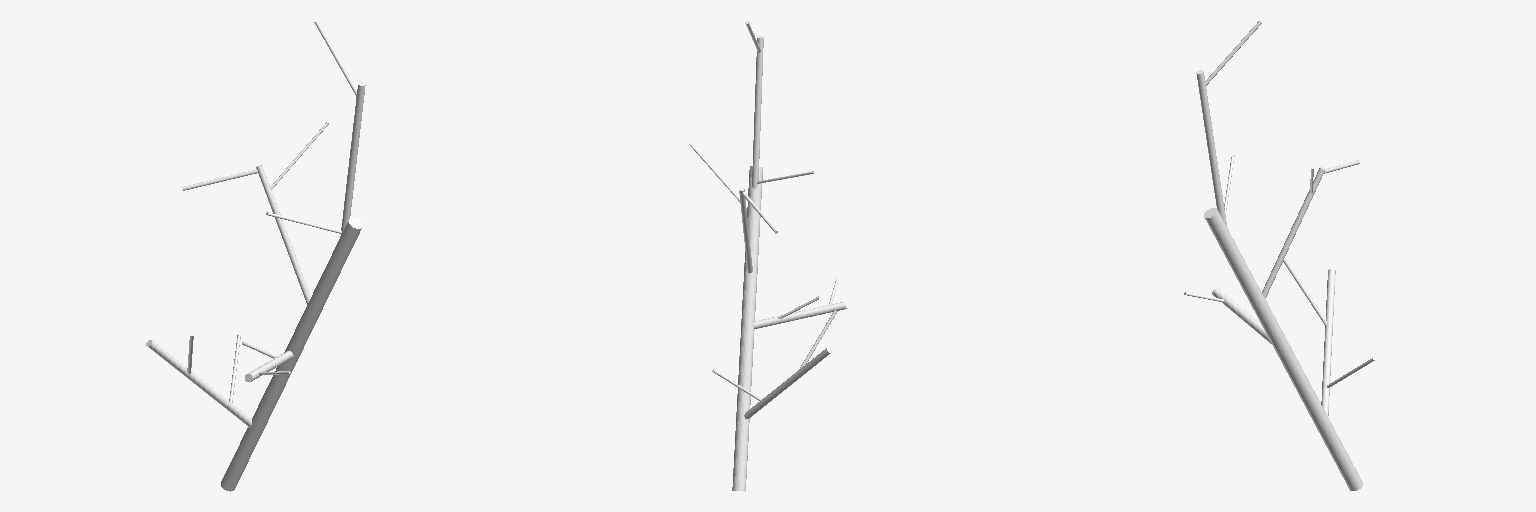
URDF robot description (tree_73.urdf):
<?xml version='1.0' encoding='UTF-8'?>
<robot name="tree_73.urdf">
  <link name="branch_0">
    <inertial>
      <origin xyz="0.0 0.0 0.0" rpy="0.0 -0.0 0.0"/>
      <mass value="1.0"/>
      <inertia ixx="1.0" ixy="0.0" ixz="0.0" iyy="1.0" iyz="0.0" izz="1.0"/>
    </inertial>
    <visual name="branch_0_visual">
      <geometry>
        <cylinder radius="0.20638928334757026" length="9.8569751518253"/>
      </geometry>
      <material name="branch_material"/>
      <origin xyz="0.8276290843068931 -1.9606261352390435 4.445330701146124" rpy="2.7755575615628914e-17 0.4464941199530798 -1.1713634447940307"/>
    </visual>
    <collision name="branch_0_collision">
      <geometry>
        <cylinder radius="0.20638928334757026" length="9.8569751518253"/>
      </geometry>
      <origin xyz="0.8276290843068931 -1.9606261352390435 4.445330701146124" rpy="2.7755575615628914e-17 0.4464941199530798 -1.1713634447940307"/>
    </collision>
  </link>
  <link name="branch_1">
    <inertial>
      <origin xyz="0.0 0.0 0.0" rpy="0.0 -0.0 0.0"/>
      <mass value="1.0"/>
      <inertia ixx="1.0" ixy="0.0" ixz="0.0" iyy="1.0" iyz="0.0" izz="1.0"/>
    </inertial>
    <visual name="branch_1_visual">
      <geometry>
        <cylinder radius="0.08349762583085146" length="4.148291246281149"/>
      </geometry>
      <material name="branch_material"/>
      <origin xyz="0.0 0.0 0.0" rpy="0.0 -0.0 0.0"/>
    </visual>
    <collision name="branch_1_collision">
      <geometry>
        <cylinder radius="0.08349762583085146" length="4.148291246281149"/>
      </geometry>
      <origin xyz="0.0 0.0 0.0" rpy="0.0 -0.0 0.0"/>
    </collision>
  </link>
  <link name="branch_2">
    <inertial>
      <origin xyz="0.0 0.0 0.0" rpy="0.0 -0.0 0.0"/>
      <mass value="1.0"/>
      <inertia ixx="1.0" ixy="0.0" ixz="0.0" iyy="1.0" iyz="0.0" izz="1.0"/>
    </inertial>
    <visual name="branch_2_visual">
      <geometry>
        <cylinder radius="0.05392378732140985" length="2.134622341768603"/>
      </geometry>
      <material name="branch_material"/>
      <origin xyz="0.0 0.0 0.0" rpy="0.0 -0.0 0.0"/>
    </visual>
    <collision name="branch_2_collision">
      <geometry>
        <cylinder radius="0.05392378732140985" length="2.134622341768603"/>
      </geometry>
      <origin xyz="0.0 0.0 0.0" rpy="0.0 -0.0 0.0"/>
    </collision>
  </link>
  <link name="branch_3">
    <inertial>
      <origin xyz="0.0 0.0 0.0" rpy="0.0 -0.0 0.0"/>
      <mass value="1.0"/>
      <inertia ixx="1.0" ixy="0.0" ixz="0.0" iyy="1.0" iyz="0.0" izz="1.0"/>
    </inertial>
    <visual name="branch_3_visual">
      <geometry>
        <cylinder radius="0.04" length="2.434232954632553"/>
      </geometry>
      <material name="branch_material"/>
      <origin xyz="0.0 0.0 0.0" rpy="0.0 -0.0 0.0"/>
    </visual>
    <collision name="branch_3_collision">
      <geometry>
        <cylinder radius="0.04" length="2.434232954632553"/>
      </geometry>
      <origin xyz="0.0 0.0 0.0" rpy="0.0 -0.0 0.0"/>
    </collision>
  </link>
  <link name="branch_4">
    <inertial>
      <origin xyz="0.0 0.0 0.0" rpy="0.0 -0.0 0.0"/>
      <mass value="1.0"/>
      <inertia ixx="1.0" ixy="0.0" ixz="0.0" iyy="1.0" iyz="0.0" izz="1.0"/>
    </inertial>
    <visual name="branch_4_visual">
      <geometry>
        <cylinder radius="0.10439015432734483" length="4.457659811534806"/>
      </geometry>
      <material name="branch_material"/>
      <origin xyz="0.0 0.0 0.0" rpy="0.0 -0.0 0.0"/>
    </visual>
    <collision name="branch_4_collision">
      <geometry>
        <cylinder radius="0.10439015432734483" length="4.457659811534806"/>
      </geometry>
      <origin xyz="0.0 0.0 0.0" rpy="0.0 -0.0 0.0"/>
    </collision>
  </link>
  <link name="branch_5">
    <inertial>
      <origin xyz="0.0 0.0 0.0" rpy="0.0 -0.0 0.0"/>
      <mass value="1.0"/>
      <inertia ixx="1.0" ixy="0.0" ixz="0.0" iyy="1.0" iyz="0.0" izz="1.0"/>
    </inertial>
    <visual name="branch_5_visual">
      <geometry>
        <cylinder radius="0.04524205811665843" length="2.1319603378595335"/>
      </geometry>
      <material name="branch_material"/>
      <origin xyz="0.0 0.0 0.0" rpy="0.0 -0.0 0.0"/>
    </visual>
    <collision name="branch_5_collision">
      <geometry>
        <cylinder radius="0.04524205811665843" length="2.1319603378595335"/>
      </geometry>
      <origin xyz="0.0 0.0 0.0" rpy="0.0 -0.0 0.0"/>
    </collision>
  </link>
  <link name="branch_6">
    <inertial>
      <origin xyz="0.0 0.0 0.0" rpy="0.0 -0.0 0.0"/>
      <mass value="1.0"/>
      <inertia ixx="1.0" ixy="0.0" ixz="0.0" iyy="1.0" iyz="0.0" izz="1.0"/>
    </inertial>
    <visual name="branch_6_visual">
      <geometry>
        <cylinder radius="0.05349065599832659" length="2.2947537209078437"/>
      </geometry>
      <material name="branch_material"/>
      <origin xyz="0.0 0.0 0.0" rpy="0.0 -0.0 0.0"/>
    </visual>
    <collision name="branch_6_collision">
      <geometry>
        <cylinder radius="0.05349065599832659" length="2.2947537209078437"/>
      </geometry>
      <origin xyz="0.0 0.0 0.0" rpy="0.0 -0.0 0.0"/>
    </collision>
  </link>
  <link name="branch_7">
    <inertial>
      <origin xyz="0.0 0.0 0.0" rpy="0.0 -0.0 0.0"/>
      <mass value="1.0"/>
      <inertia ixx="1.0" ixy="0.0" ixz="0.0" iyy="1.0" iyz="0.0" izz="1.0"/>
    </inertial>
    <visual name="branch_7_visual">
      <geometry>
        <cylinder radius="0.10154860166900283" length="5.153411219163993"/>
      </geometry>
      <material name="branch_material"/>
      <origin xyz="0.0 0.0 0.0" rpy="0.0 -0.0 0.0"/>
    </visual>
    <collision name="branch_7_collision">
      <geometry>
        <cylinder radius="0.10154860166900283" length="5.153411219163993"/>
      </geometry>
      <origin xyz="0.0 0.0 0.0" rpy="0.0 -0.0 0.0"/>
    </collision>
  </link>
  <link name="branch_8">
    <inertial>
      <origin xyz="0.0 0.0 0.0" rpy="0.0 -0.0 0.0"/>
      <mass value="1.0"/>
      <inertia ixx="1.0" ixy="0.0" ixz="0.0" iyy="1.0" iyz="0.0" izz="1.0"/>
    </inertial>
    <visual name="branch_8_visual">
      <geometry>
        <cylinder radius="0.04" length="2.4436872086242696"/>
      </geometry>
      <material name="branch_material"/>
      <origin xyz="0.0 0.0 0.0" rpy="0.0 -0.0 0.0"/>
    </visual>
    <collision name="branch_8_collision">
      <geometry>
        <cylinder radius="0.04" length="2.4436872086242696"/>
      </geometry>
      <origin xyz="0.0 0.0 0.0" rpy="0.0 -0.0 0.0"/>
    </collision>
  </link>
  <link name="branch_9">
    <inertial>
      <origin xyz="0.0 0.0 0.0" rpy="0.0 -0.0 0.0"/>
      <mass value="1.0"/>
      <inertia ixx="1.0" ixy="0.0" ixz="0.0" iyy="1.0" iyz="0.0" izz="1.0"/>
    </inertial>
    <visual name="branch_9_visual">
      <geometry>
        <cylinder radius="0.054449592986056235" length="2.3863082700504736"/>
      </geometry>
      <material name="branch_material"/>
      <origin xyz="0.0 0.0 0.0" rpy="0.0 -0.0 0.0"/>
    </visual>
    <collision name="branch_9_collision">
      <geometry>
        <cylinder radius="0.054449592986056235" length="2.3863082700504736"/>
      </geometry>
      <origin xyz="0.0 0.0 0.0" rpy="0.0 -0.0 0.0"/>
    </collision>
  </link>
  <link name="branch_10">
    <inertial>
      <origin xyz="0.0 0.0 0.0" rpy="0.0 -0.0 0.0"/>
      <mass value="1.0"/>
      <inertia ixx="1.0" ixy="0.0" ixz="0.0" iyy="1.0" iyz="0.0" izz="1.0"/>
    </inertial>
    <visual name="branch_10_visual">
      <geometry>
        <cylinder radius="0.11779387292275377" length="3.0418121723031324"/>
      </geometry>
      <material name="branch_material"/>
      <origin xyz="0.0 0.0 0.0" rpy="0.0 -0.0 0.0"/>
    </visual>
    <collision name="branch_10_collision">
      <geometry>
        <cylinder radius="0.11779387292275377" length="3.0418121723031324"/>
      </geometry>
      <origin xyz="0.0 0.0 0.0" rpy="0.0 -0.0 0.0"/>
    </collision>
  </link>
  <link name="branch_11">
    <inertial>
      <origin xyz="0.0 0.0 0.0" rpy="0.0 -0.0 0.0"/>
      <mass value="1.0"/>
      <inertia ixx="1.0" ixy="0.0" ixz="0.0" iyy="1.0" iyz="0.0" izz="1.0"/>
    </inertial>
    <visual name="branch_11_visual">
      <geometry>
        <cylinder radius="0.04248680530091624" length="1.7018905605302013"/>
      </geometry>
      <material name="branch_material"/>
      <origin xyz="0.0 0.0 0.0" rpy="0.0 -0.0 0.0"/>
    </visual>
    <collision name="branch_11_collision">
      <geometry>
        <cylinder radius="0.04248680530091624" length="1.7018905605302013"/>
      </geometry>
      <origin xyz="0.0 0.0 0.0" rpy="0.0 -0.0 0.0"/>
    </collision>
  </link>
  <link name="branch_12">
    <inertial>
      <origin xyz="0.0 0.0 0.0" rpy="0.0 -0.0 0.0"/>
      <mass value="1.0"/>
      <inertia ixx="1.0" ixy="0.0" ixz="0.0" iyy="1.0" iyz="0.0" izz="1.0"/>
    </inertial>
    <visual name="branch_12_visual">
      <geometry>
        <cylinder radius="0.04069596454147465" length="1.2644777305119035"/>
      </geometry>
      <material name="branch_material"/>
      <origin xyz="0.0 0.0 0.0" rpy="0.0 -0.0 0.0"/>
    </visual>
    <collision name="branch_12_collision">
      <geometry>
        <cylinder radius="0.04069596454147465" length="1.2644777305119035"/>
      </geometry>
      <origin xyz="0.0 0.0 0.0" rpy="0.0 -0.0 0.0"/>
    </collision>
  </link>
  <joint name="joint_0_1" type="fixed">
    <parent link="branch_0"/>
    <child link="branch_1"/>
    <axis xyz="1. 0. 0."/>
    <origin xyz="0.7647505235432964 -1.757362135995817 7.7740469926673725" rpy="0.006238825428542025 0.4564244805935609 1.96128077957407"/>
  </joint>
  <joint name="joint_0_4" type="fixed">
    <parent link="branch_0"/>
    <child link="branch_4"/>
    <axis xyz="1. 0. 0."/>
    <origin xyz="-1.2118753671767661 -0.7645421874258475 3.539541562573034" rpy="-0.42148166884678906 0.6888455598434472 2.461426464310426"/>
  </joint>
  <joint name="joint_0_7" type="fixed">
    <parent link="branch_0"/>
    <child link="branch_7"/>
    <axis xyz="1. 0. 0."/>
    <origin xyz="1.581790655902643 -3.86393607555492 10.533344507721415" rpy="-0.025238665515798564 -0.13661764095838058 2.025929723571311"/>
  </joint>
  <joint name="joint_0_10" type="fixed">
    <parent link="branch_0"/>
    <child link="branch_10"/>
    <axis xyz="1. 0. 0."/>
    <origin xyz="-0.3565271009299141 -2.8842730092767317 4.774472915606396" rpy="-1.1680019877815393 1.087699931766812 2.5778993827885515"/>
  </joint>
  <joint name="joint_1_2" type="fixed">
    <parent link="branch_0"/>
    <child link="branch_2"/>
    <axis xyz="1. 0. 0."/>
    <origin xyz="-0.45268635204752355 -0.4511254167778895 9.259846579399383" rpy="2.3159269882933686 1.1933434579791007 -1.3734294860358394"/>
  </joint>
  <joint name="joint_1_3" type="fixed">
    <parent link="branch_0"/>
    <child link="branch_3"/>
    <axis xyz="1. 0. 0."/>
    <origin xyz="1.4689563191370343 -1.1964779034512345 9.778784480293135" rpy="-0.4953066159917324 0.7360998579604231 -0.6691313494118678"/>
  </joint>
  <joint name="joint_4_5" type="fixed">
    <parent link="branch_0"/>
    <child link="branch_5"/>
    <axis xyz="1. 0. 0."/>
    <origin xyz="0.11047356300698653 -0.16866271344130168 3.4065456103990783" rpy="-0.6280779572730997 0.6774095900324624 0.04348377988564428"/>
  </joint>
  <joint name="joint_4_6" type="fixed">
    <parent link="branch_0"/>
    <child link="branch_6"/>
    <axis xyz="1. 0. 0."/>
    <origin xyz="-1.9356860339613817 -1.362891905325542 4.852256285350755" rpy="0.6337183961493122 0.18797133583507564 -0.7185660063069371"/>
  </joint>
  <joint name="joint_7_8" type="fixed">
    <parent link="branch_0"/>
    <child link="branch_8"/>
    <axis xyz="1. 0. 0."/>
    <origin xyz="0.39531052338003764 -3.453862092931525 8.993815228163319" rpy="-0.30108288548615697 1.1359289960189565 2.689359954829536"/>
  </joint>
  <joint name="joint_7_9" type="fixed">
    <parent link="branch_0"/>
    <child link="branch_9"/>
    <axis xyz="1. 0. 0."/>
    <origin xyz="1.439213662448715 -3.360017349018653 13.492891862559306" rpy="-0.00041428740434580554 0.7528079625721578 1.844534141815218"/>
  </joint>
  <joint name="joint_10_11" type="fixed">
    <parent link="branch_0"/>
    <child link="branch_11"/>
    <axis xyz="1. 0. 0."/>
    <origin xyz="-0.4952723794190806 -2.6529719991661427 5.127214958657252" rpy="-0.8143848453243365 -0.6105715030622695 1.3301115807466128"/>
  </joint>
  <joint name="joint_10_12" type="fixed">
    <parent link="branch_0"/>
    <child link="branch_12"/>
    <axis xyz="1. 0. 0."/>
    <origin xyz="-0.9539639892522983 -4.042074890584687 5.1608590233608815" rpy="1.239046954614138 0.06800813020483218 0.28694346673898563"/>
  </joint>
  <material name="branch_material">
    <color rgba="1. 1. 1. 1."/>
  </material>
</robot>

--- Render facts (derived) ---
Views: 3 orthographic renders of the robot side by side, from view 1: azimuth 30°, elevation 25°; view 2: azimuth 150°, elevation 25°; view 3: azimuth 270°, elevation 25°.
Model tree_73.urdf with 13 links and 12 joints (12 fixed), rooted at branch_0, posed every joint at zero.
Links seen in each view (by area): view 1: branch_0, branch_7, branch_4, branch_1; view 2: branch_0, branch_7, branch_4, branch_10; view 3: branch_0, branch_7, branch_4, branch_1, branch_10.
Boxes of the visible links, left/top/right/bottom form: branch_0: left=221, top=218, right=362, bottom=491; branch_7: left=340, top=82, right=365, bottom=236; branch_4: left=146, top=340, right=251, bottom=427; branch_1: left=256, top=165, right=310, bottom=304; branch_0: left=732, top=166, right=762, bottom=491; branch_7: left=752, top=36, right=763, bottom=188; branch_4: left=744, top=347, right=831, bottom=418; branch_10: left=754, top=302, right=846, bottom=328; branch_0: left=1204, top=208, right=1362, bottom=490; branch_7: left=1196, top=70, right=1226, bottom=226; branch_4: left=1321, top=269, right=1335, bottom=415; branch_1: left=1262, top=167, right=1324, bottom=298; branch_10: left=1212, top=288, right=1271, bottom=343.
Bounding box of the posed robot: 5.28 × 5.15 × 14.49 m (x, y, z).
Geometry: primitives only (box / cylinder / sphere), no mesh files.
